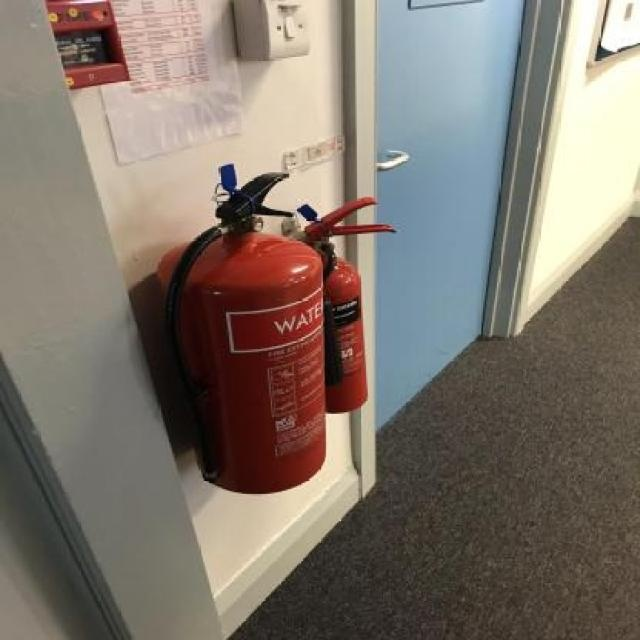fire extinguisher: (147, 171, 331, 494), (298, 196, 396, 413)
